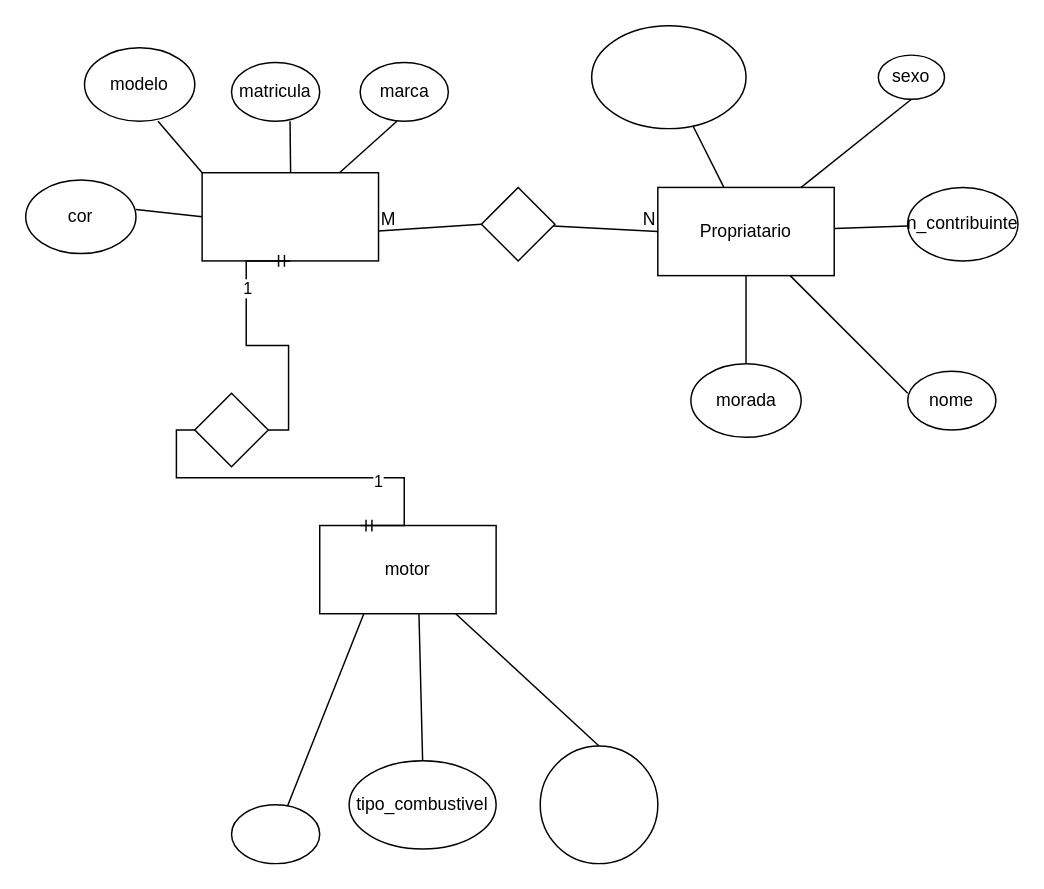
This 1044x889 diagram has some shape labels left out. The centre of each missing label's shape, as x and y in pixels:
"cilindrada" belongs at point (598, 804).
"data_nascimento" belongs at point (668, 76).
"n_motor" belongs at point (275, 833).
"possuir" belongs at point (517, 223).
"tem" belongs at point (230, 429).
"Veiculo" belongs at point (290, 216).
